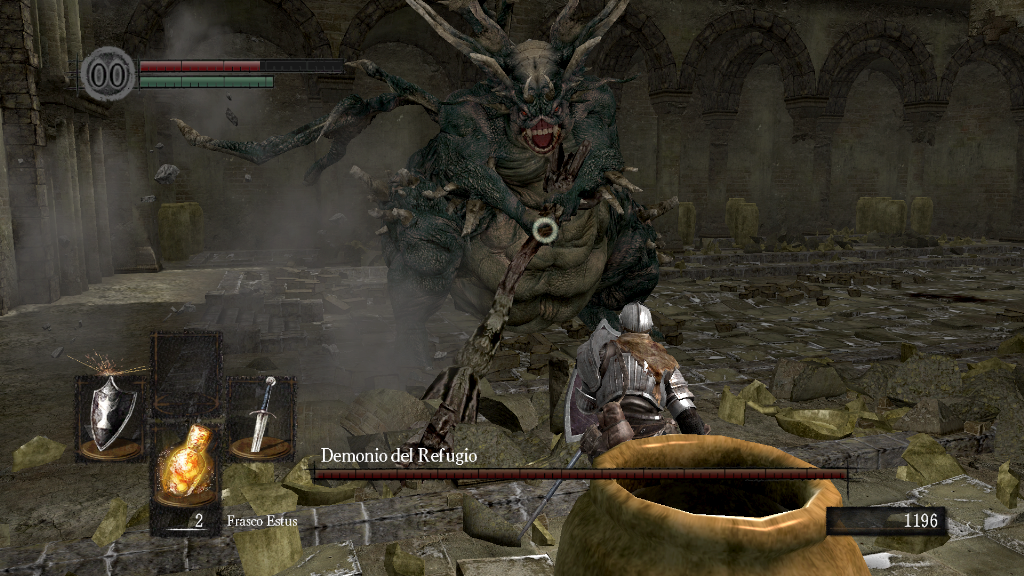asylumDemon: (364, 1, 680, 353)
bossHP: (314, 469, 847, 479)
health: (138, 58, 343, 71)
humanity: (80, 45, 136, 102)
player: (563, 301, 710, 435)
souls: (825, 506, 945, 536)
stamina: (138, 74, 274, 88)
